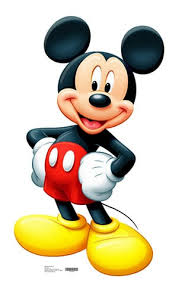mickey: (14, 14, 165, 277)
